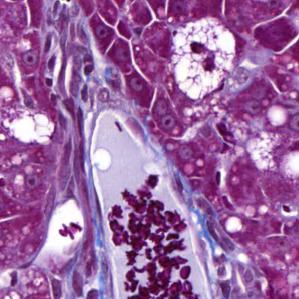ballooning: (169, 13, 239, 102)
